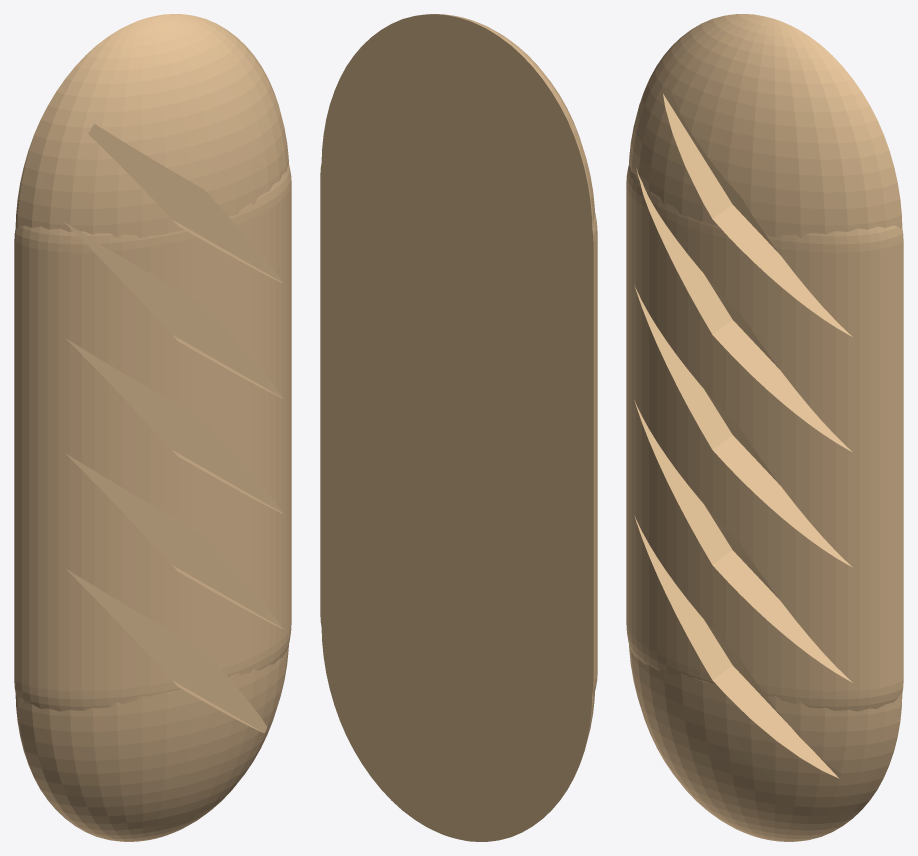
File: tinker.obj
3 views of the same model, side by side, from view 1: azimuth 30°, elevation 25°; view 2: azimuth 150°, elevation 25°; view 3: azimuth 330°, elevation 25° (orthographic).
Parts seen in each view (by area): view 1: obj_0; view 2: obj_0; view 3: obj_0.
Boxes of the visible parts, <box> form: obj_0: <box>14,14,291,841</box>; obj_0: <box>320,14,597,841</box>; obj_0: <box>626,14,903,841</box>.
Size of the model in its own units: 22.96 by 66 by 6.
